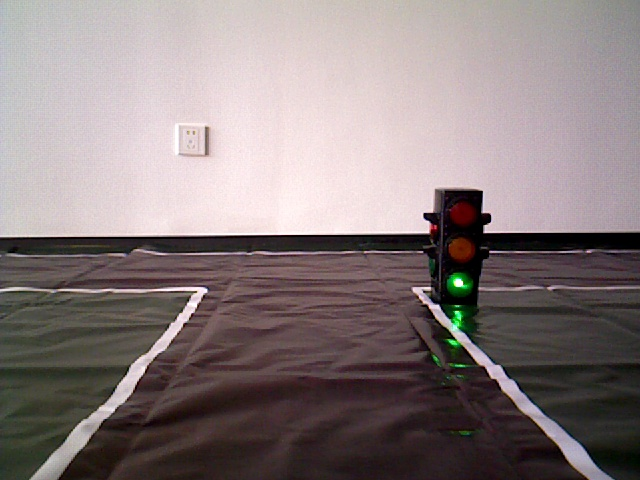green: (434, 194, 480, 299)
